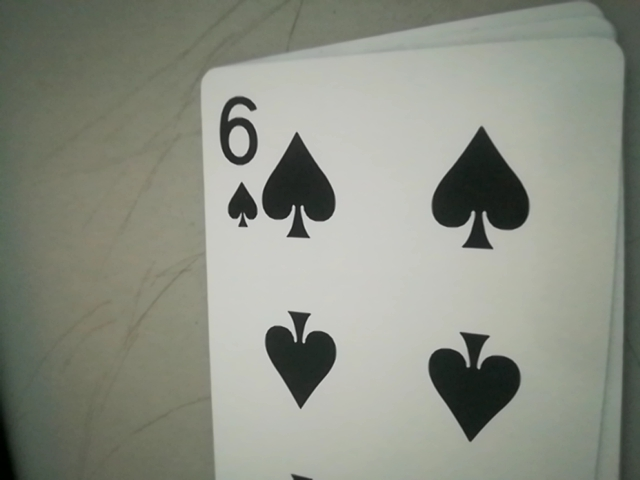ht 6: (206, 82, 270, 235)
